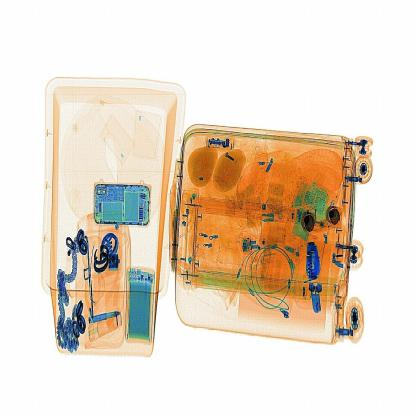scissors: (298, 239, 326, 283)
